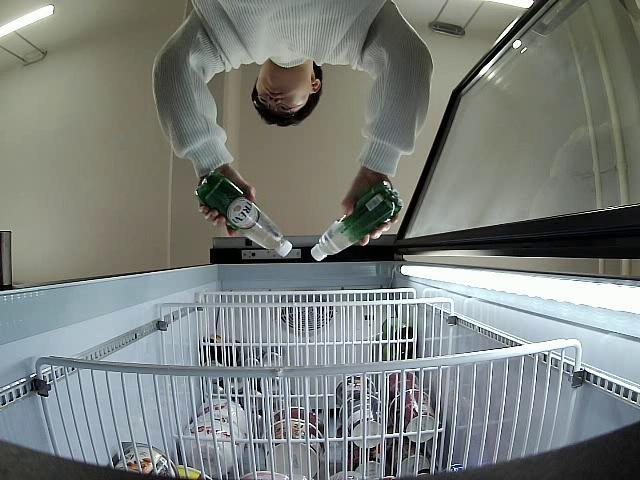18_trevi: (195, 169, 292, 257), (311, 180, 402, 261)
